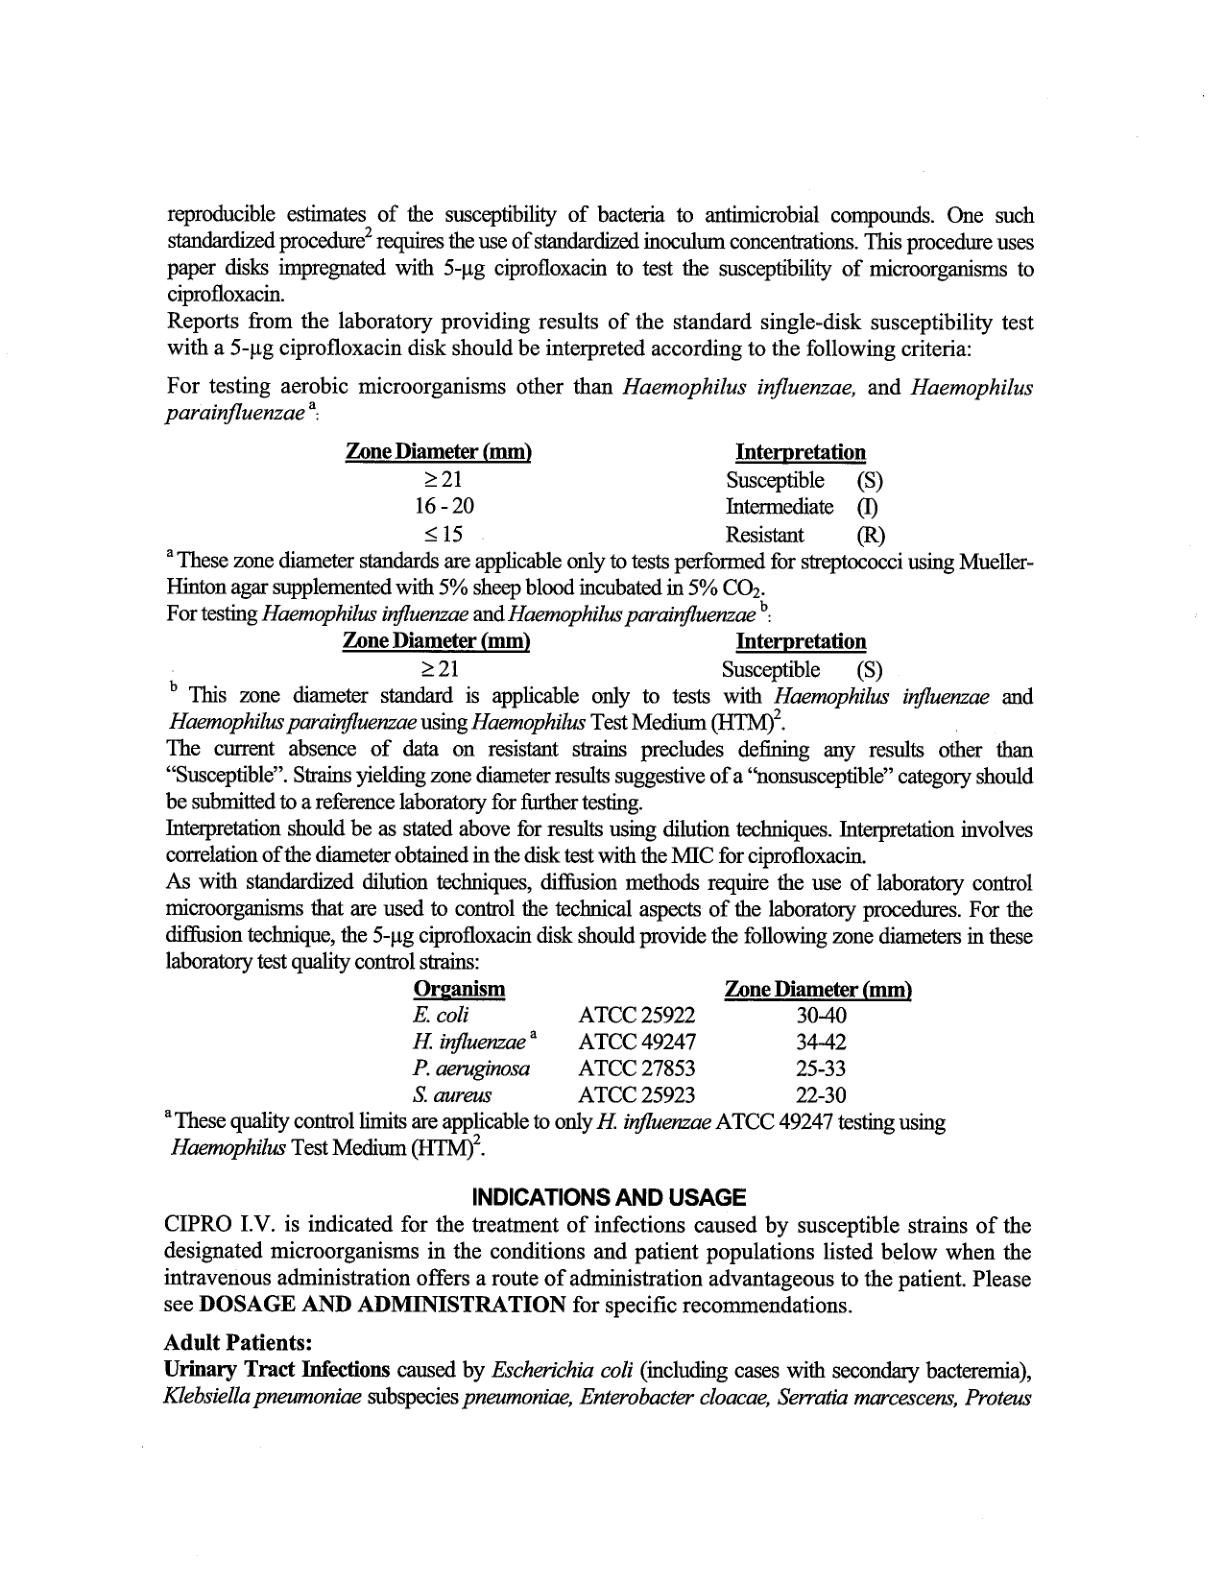nolines: (410, 978, 912, 1104), (345, 438, 887, 549), (339, 629, 883, 681)
